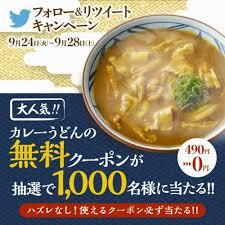curry: (76, 10, 225, 161)
